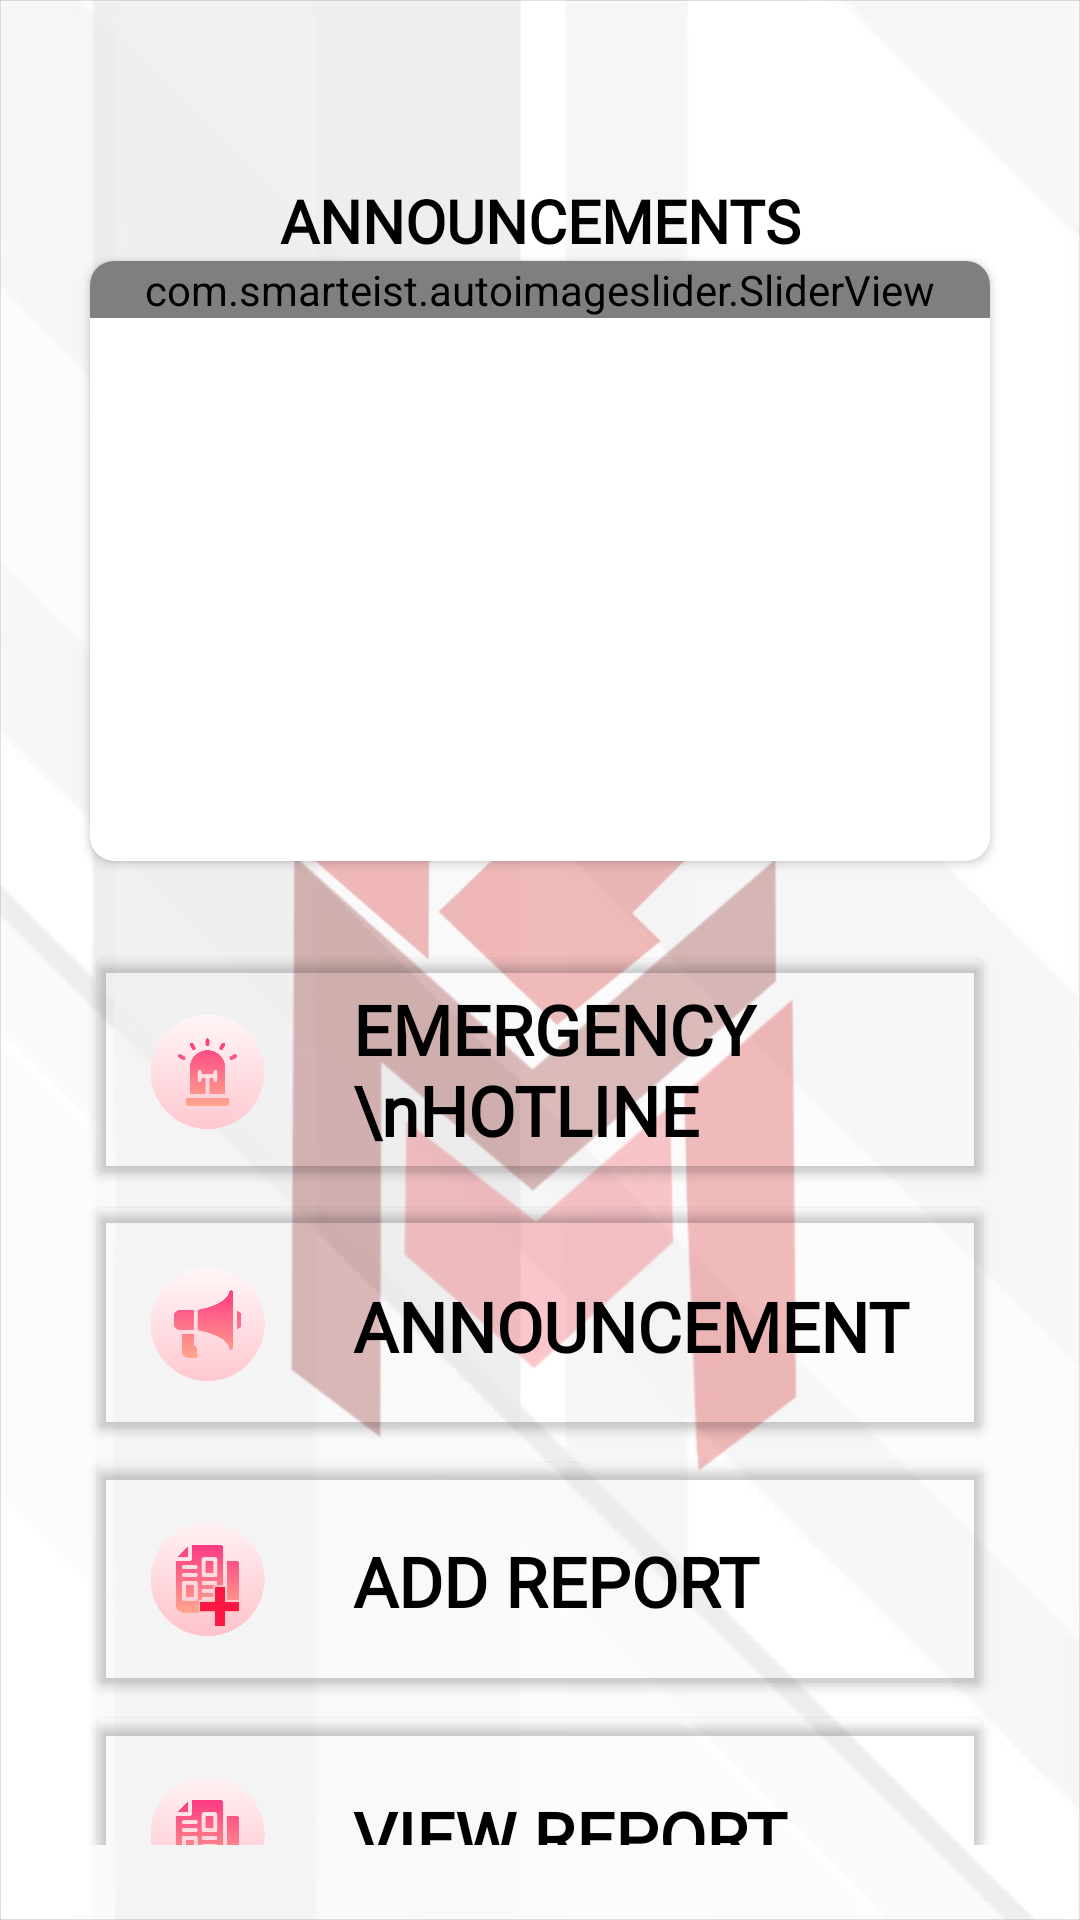

Screen size 1080px×1920px. Icon name, then its box in pixels as (left=x1, top=y1, right=x2, bottom=y2):
newdocu: (left=151, top=1545, right=265, bottom=1636)
